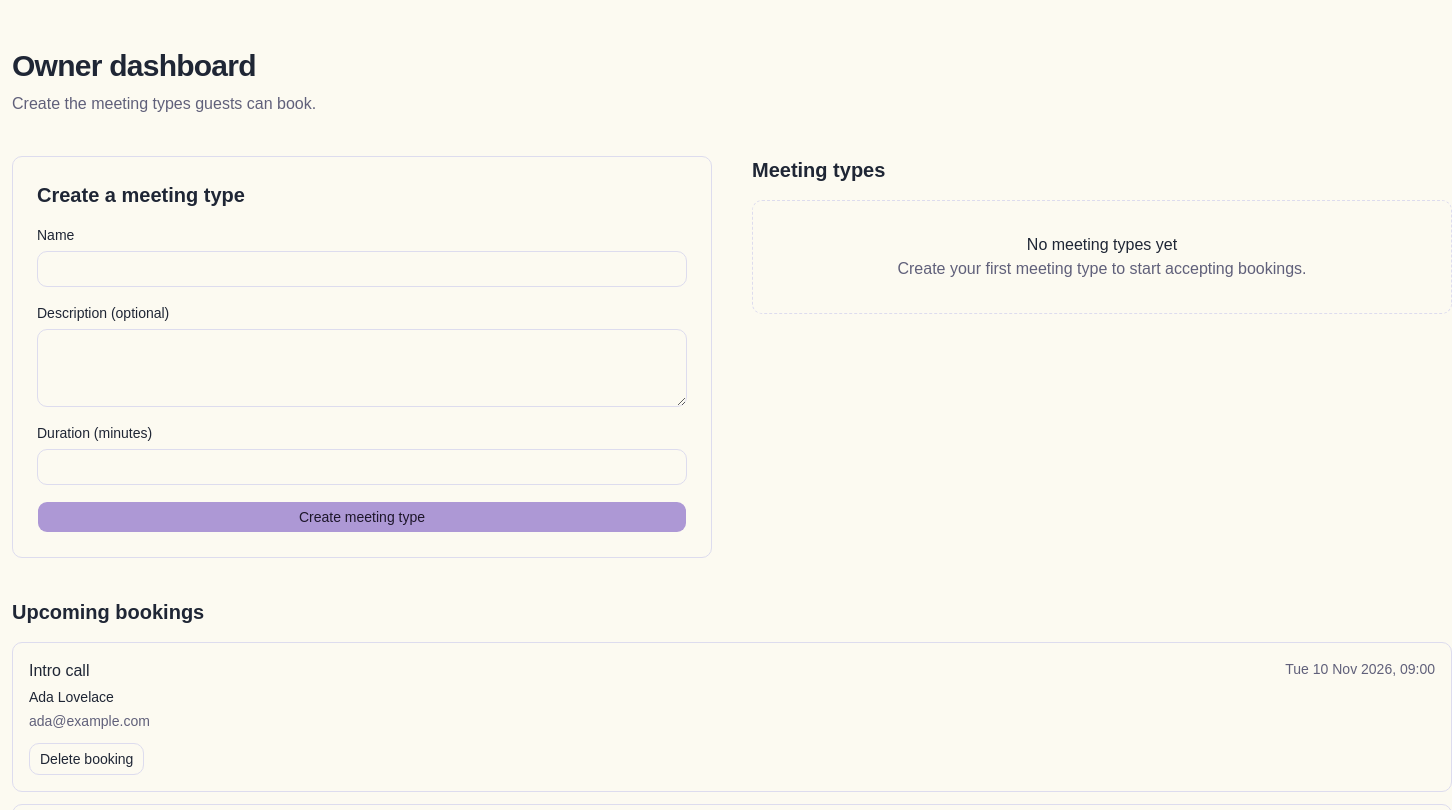
Test: OwnerDashboardPage › deleting a booking › leaves the booking intact when the confirmation is cancelled
This screenshot has width=1452, height=810.
Click the button "Delete booking" at (87, 759), box [29,743,144,775]
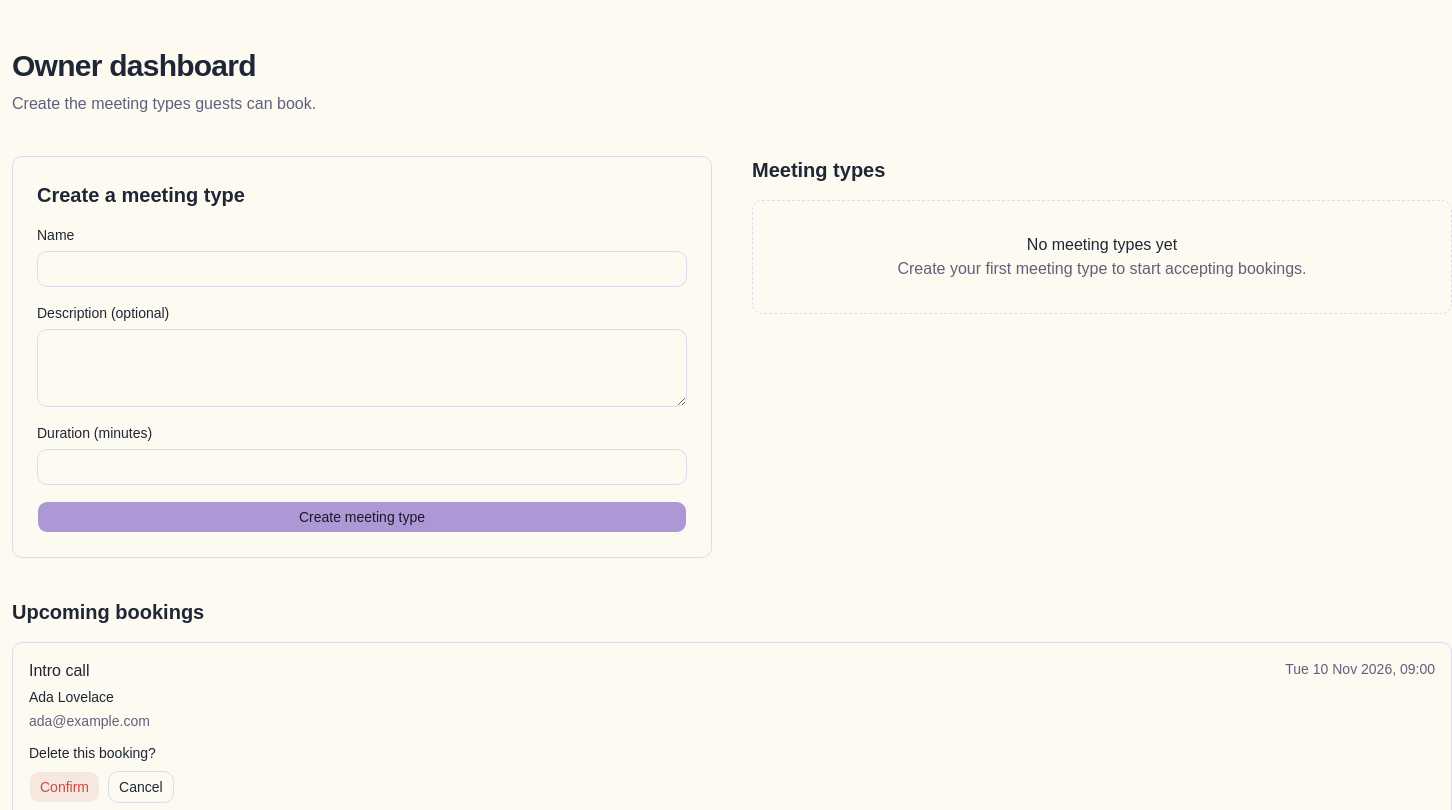
Click the button "Cancel" at (141, 787), box [108,771,174,803]
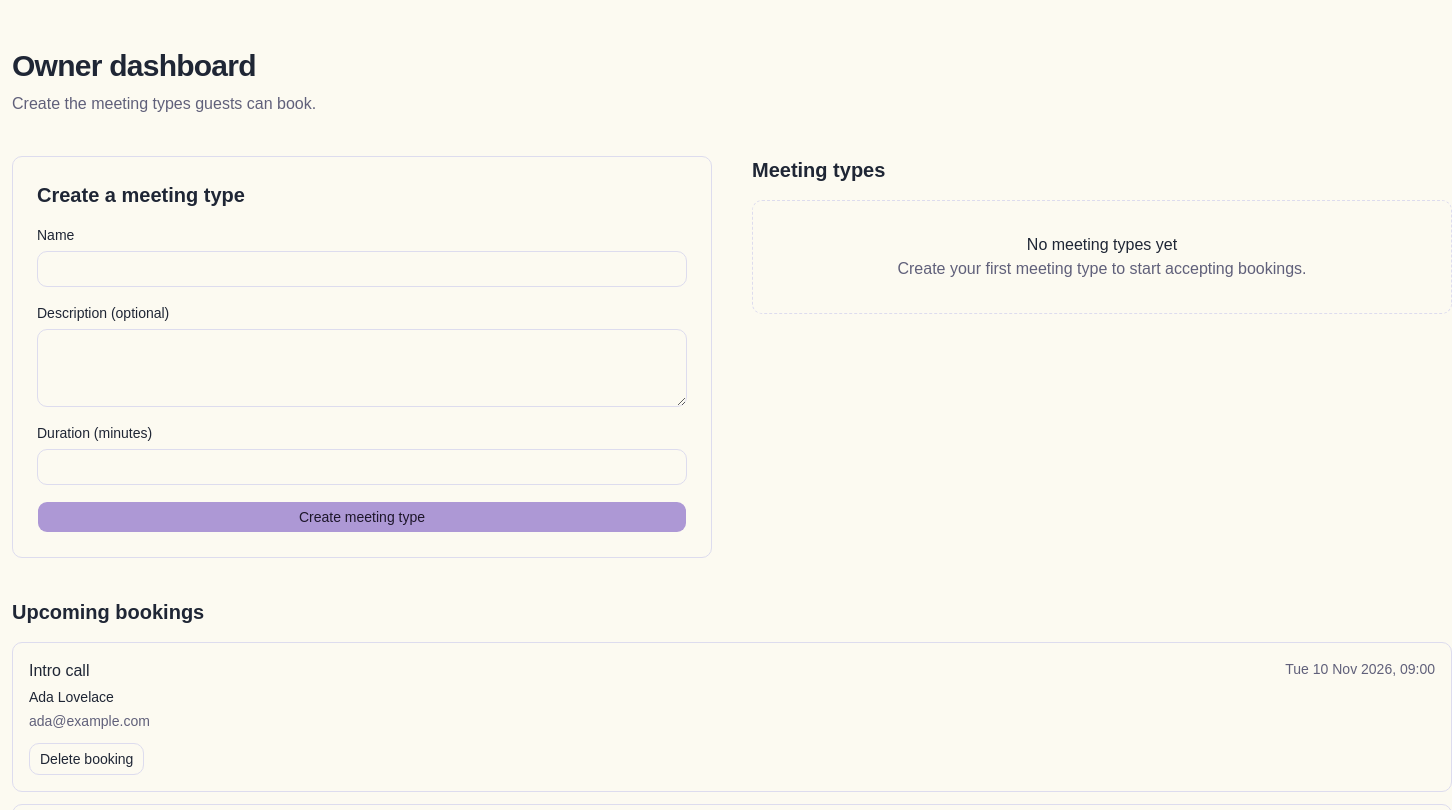
Check: the text "Ada Lovelace" is shown, box [29,689,114,705]
Check: the text "Delete this booking?" is gone
